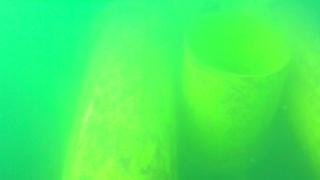pipe: (60, 13, 179, 180), (181, 9, 294, 171), (278, 1, 320, 179)
